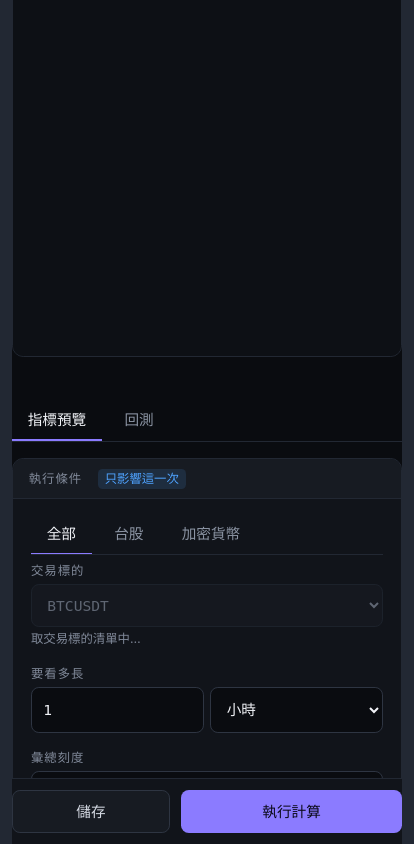
Test: IndicatorCalculationPanel › 底下那一條的執行鍵送出的是看得見的那個去處（backtest）
(page scrolled)
Click the tab "回測".
click(139, 422)  # box [109,404,169,441]
(page scrolled)
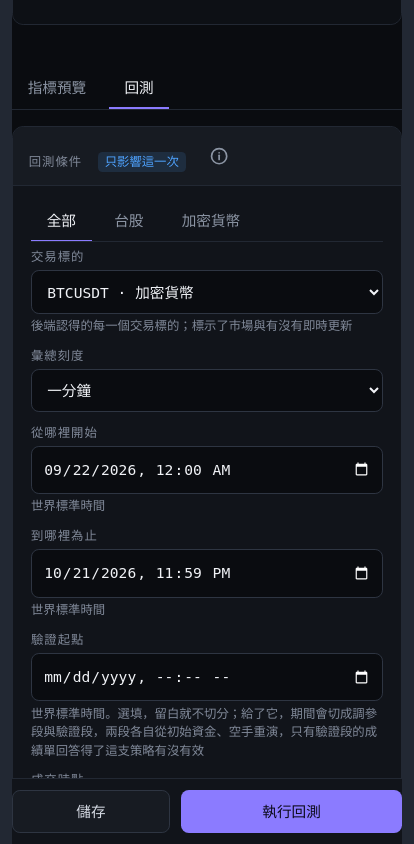
Expected: the button with test id "dock-run-button" reads "執行回測", [181,790,402,833]
